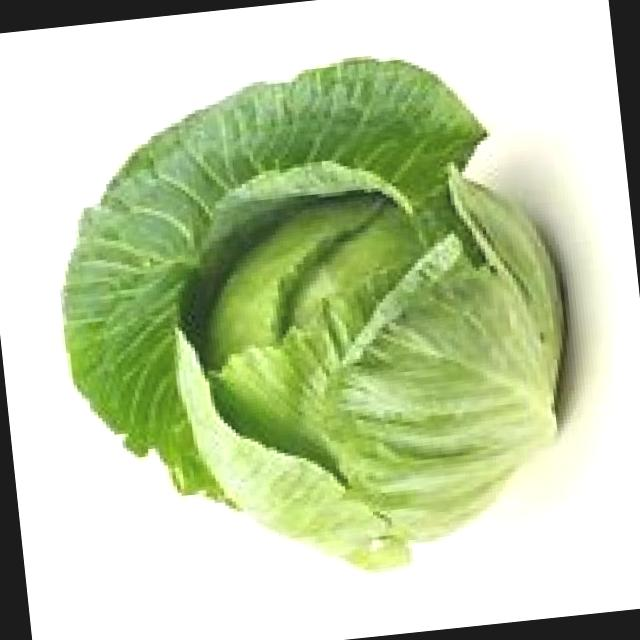cabbage: (144, 143, 598, 598)
